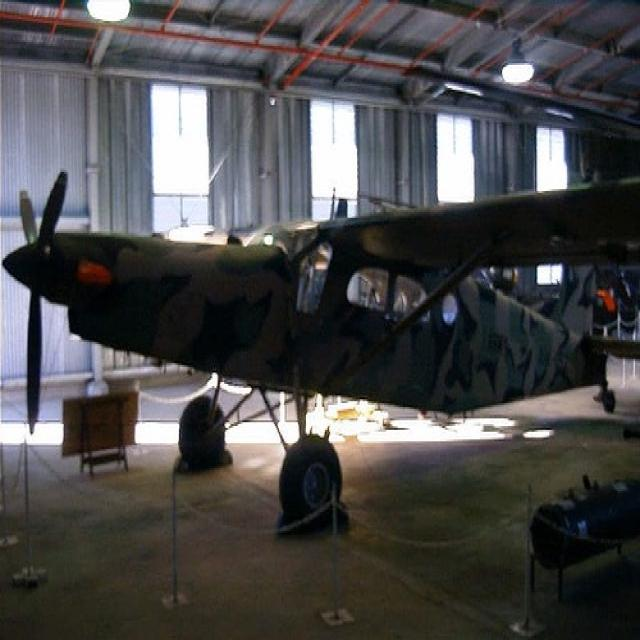aeroplane: (1, 170, 639, 535)
